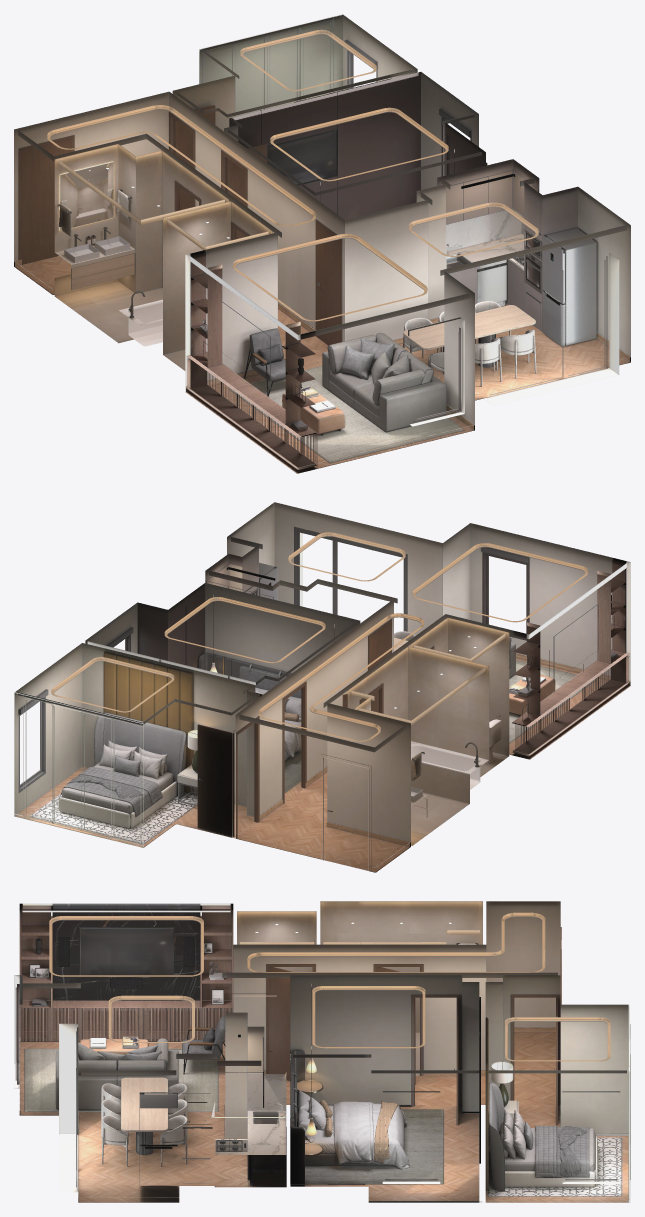
File: apartamento1.glb
The picture shows the model from 3 angles, top to bottom: view 1: azimuth 30°, elevation 25°; view 2: azimuth 150°, elevation 25°; view 3: azimuth 270°, elevation 25°; orthographic projection. The views are drawn at different scales.
Parts seen in each view (by area): view 1: Sala_Cozinha_4, Banheiros_Corredor_0, Quartos_3, Teto_1; view 2: Quartos_3, Banheiros_Corredor_0, Sala_Cozinha_4, Teto_1, Chambre01_Meuble_Lit_2; view 3: Sala_Cozinha_4, Quartos_3, Banheiros_Corredor_0, Teto_1, Chambre01_Meuble_Lit_2.
Boxes of the visible parts, <box> form: Sala_Cozinha_4: <box>185,159,630,473</box>; Banheiros_Corredor_0: <box>14,91,344,370</box>; Quartos_3: <box>169,14,487,238</box>; Teto_1: <box>18,29,626,340</box>; Quartos_3: <box>14,583,360,847</box>; Banheiros_Corredor_0: <box>235,599,509,872</box>; Sala_Cozinha_4: <box>205,502,630,759</box>; Teto_1: <box>18,532,627,752</box>; Chambre01_Meuble_Lit_2: <box>60,687,301,816</box>; Sala_Cozinha_4: <box>14,903,286,1202</box>; Quartos_3: <box>290,975,630,1202</box>; Banheiros_Corredor_0: <box>230,901,561,1104</box>; Teto_1: <box>22,912,626,1075</box>; Chambre01_Meuble_Lit_2: <box>297,1090,595,1177</box>.
Size of the model in its own units: 7.05 by 2.51 by 10.66.
Materials: 5 (5 with a texture image).
